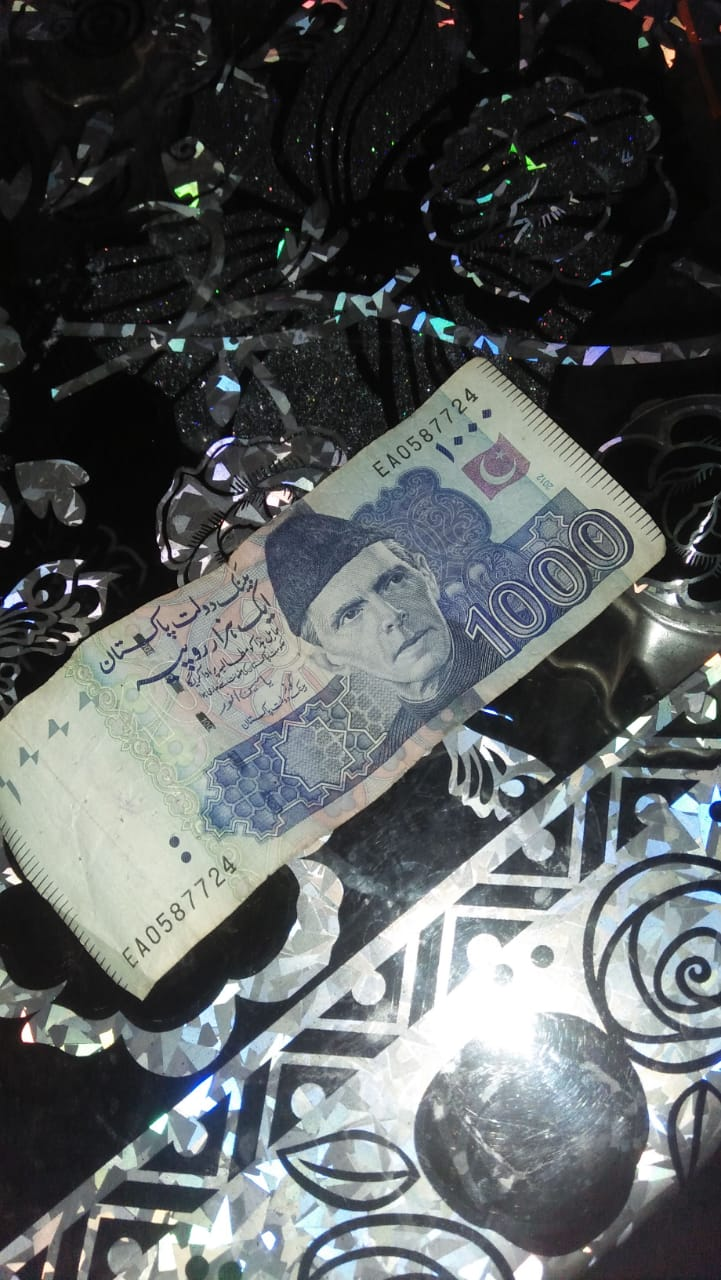1000 rupee: (9, 354, 687, 1038)
